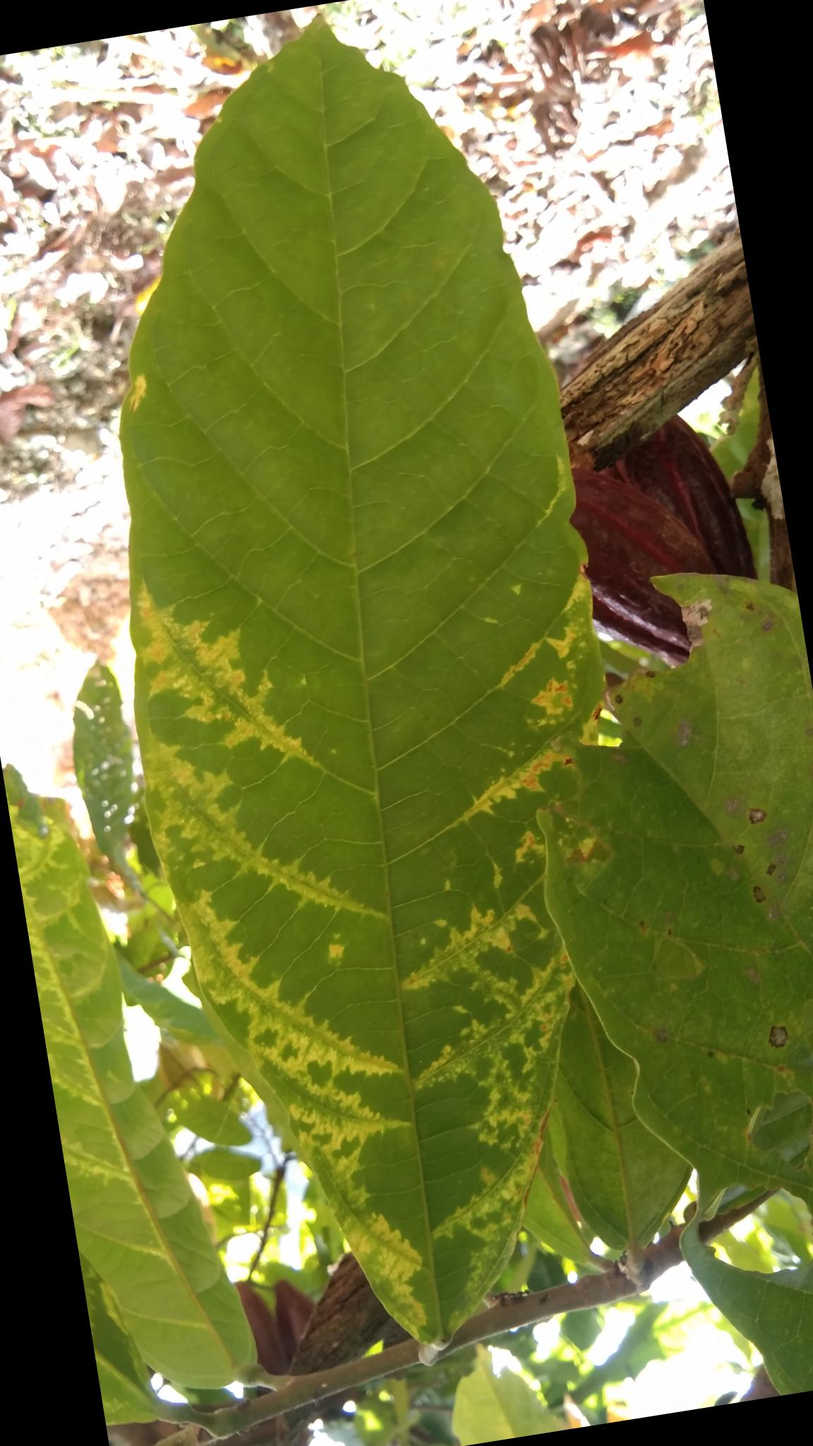Fosforo: (101, 4, 622, 1405)
